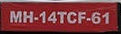character: (9, 10, 22, 23), (56, 10, 67, 24), (22, 9, 32, 23), (47, 10, 57, 24), (66, 11, 76, 24), (90, 11, 100, 24), (77, 10, 86, 24), (38, 10, 45, 24), (102, 11, 109, 24)
